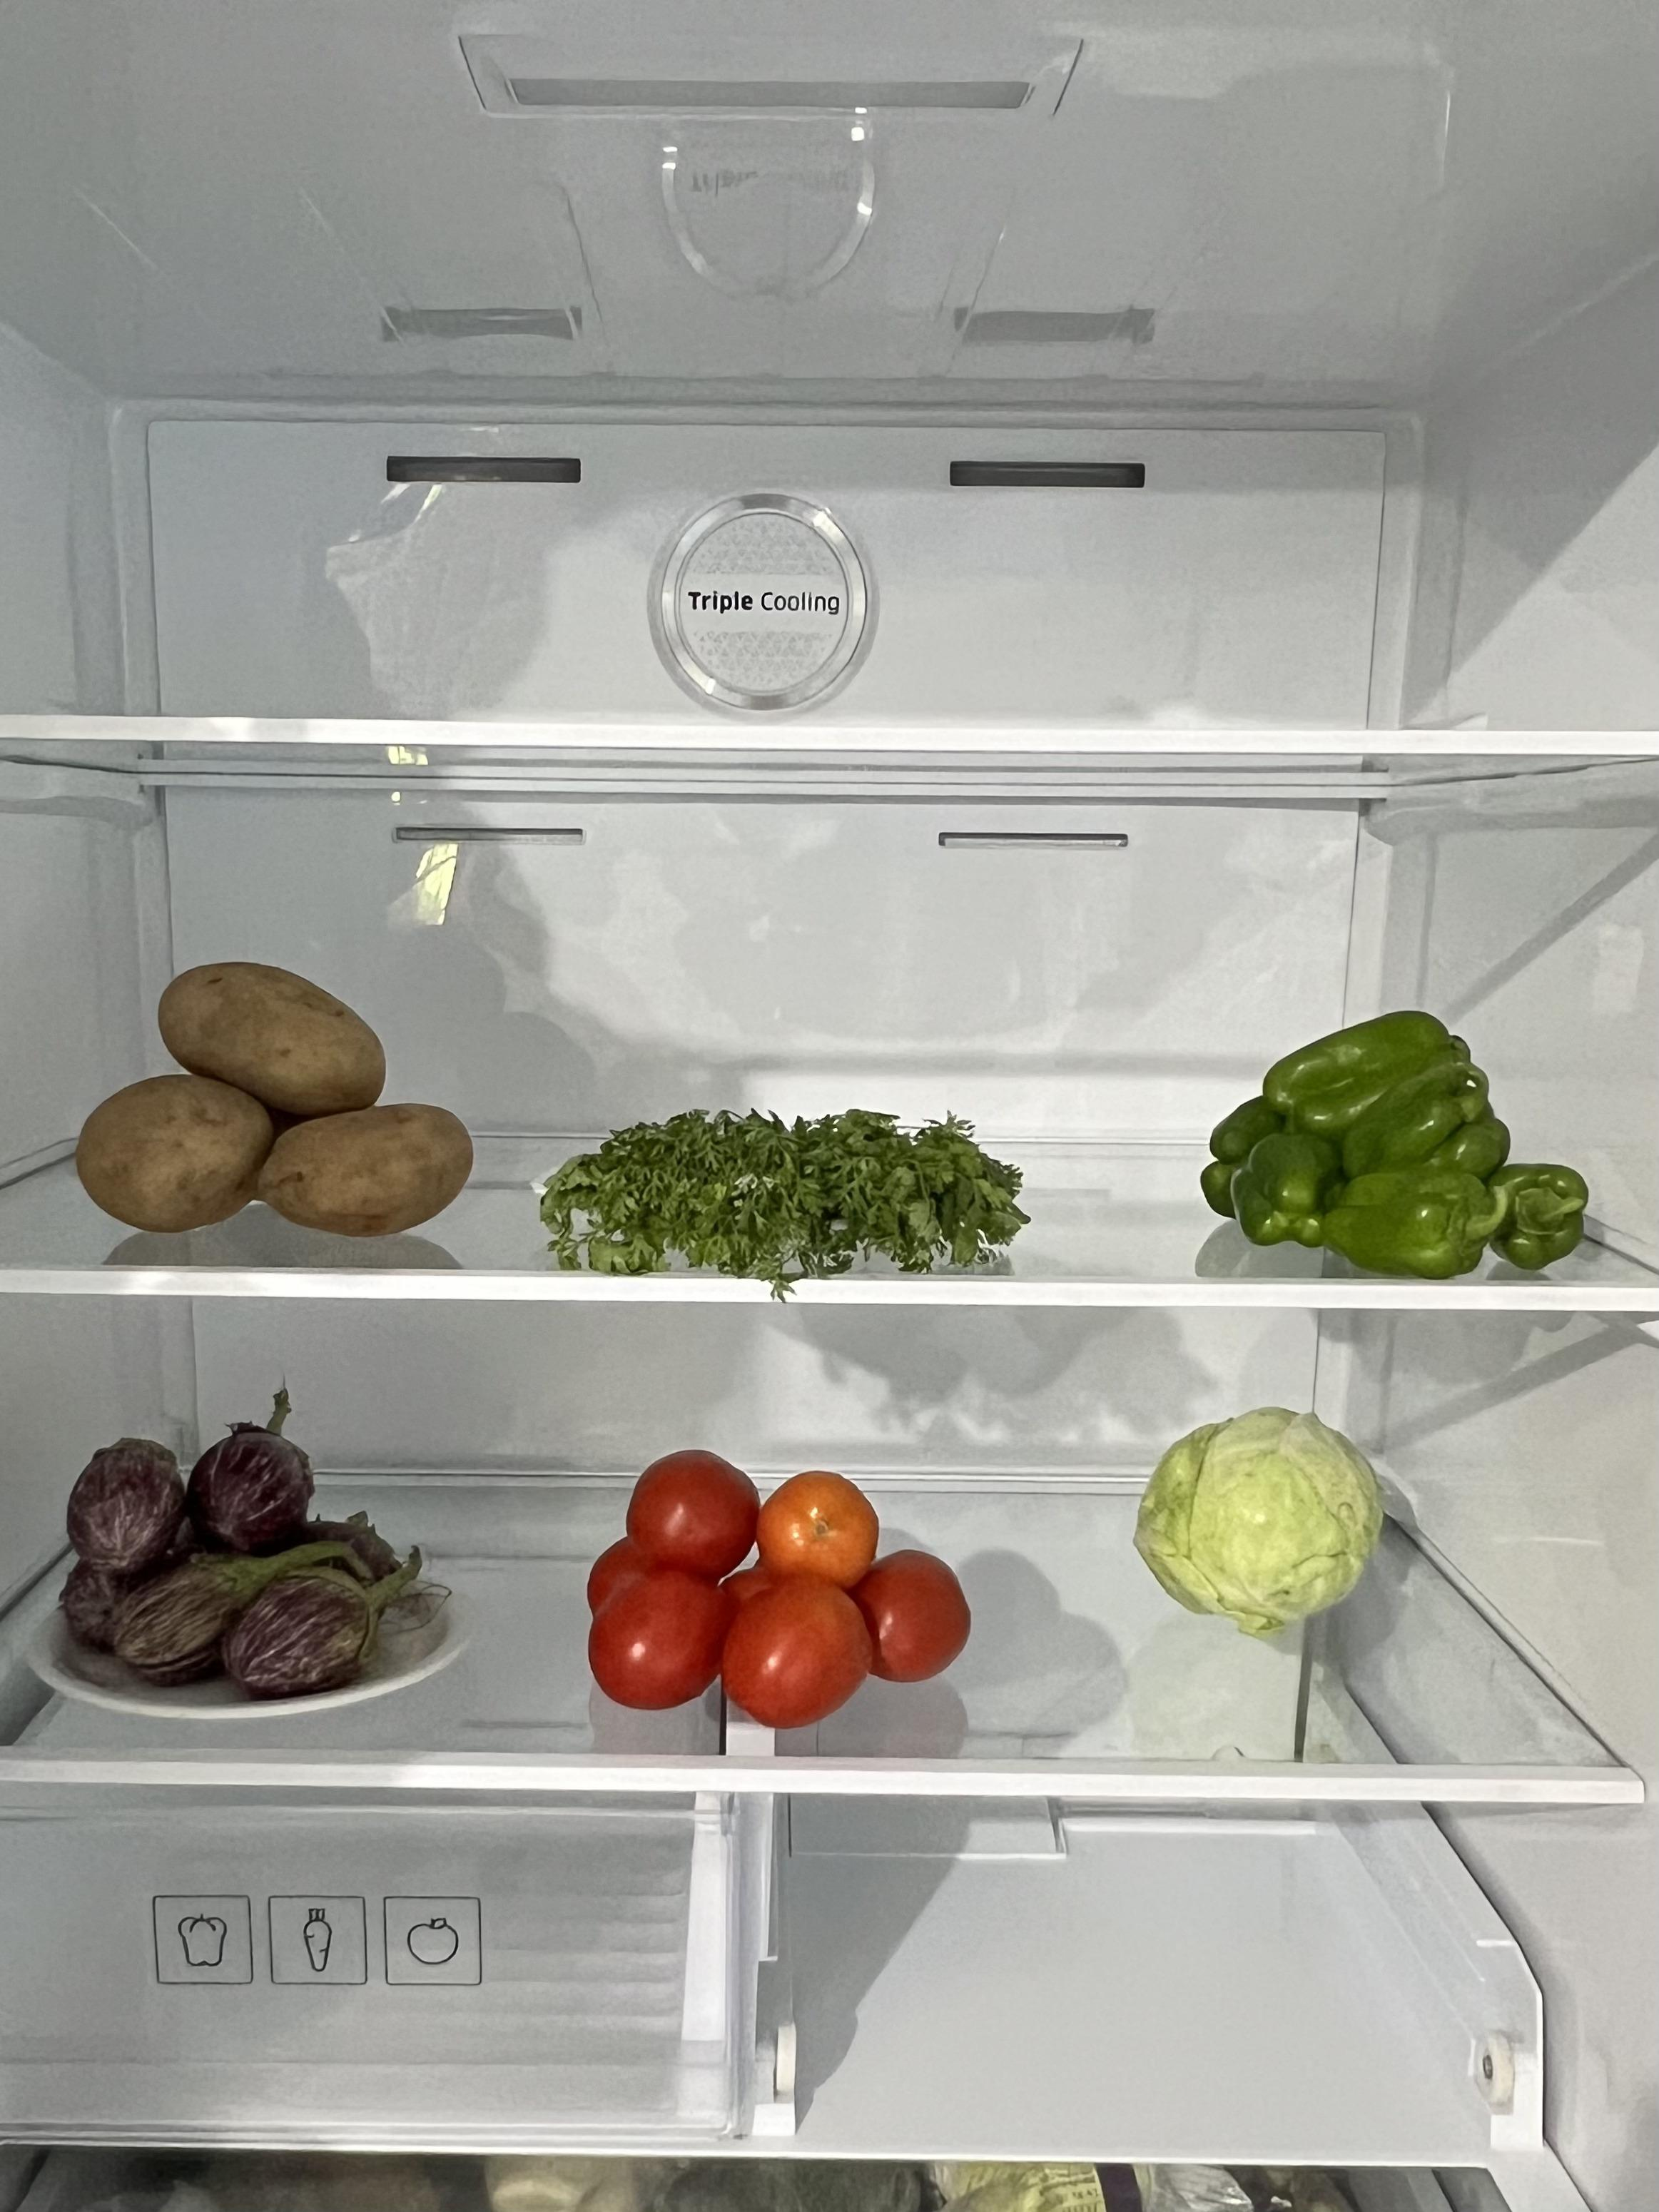bringal: (61, 1418, 408, 1696)
cabbage: (1133, 1411, 1389, 1629)
capsicum: (1199, 1008, 1591, 1270)
coriander: (540, 1106, 1023, 1280)
potato: (75, 954, 474, 1235)
tomato: (584, 1446, 972, 1730)
